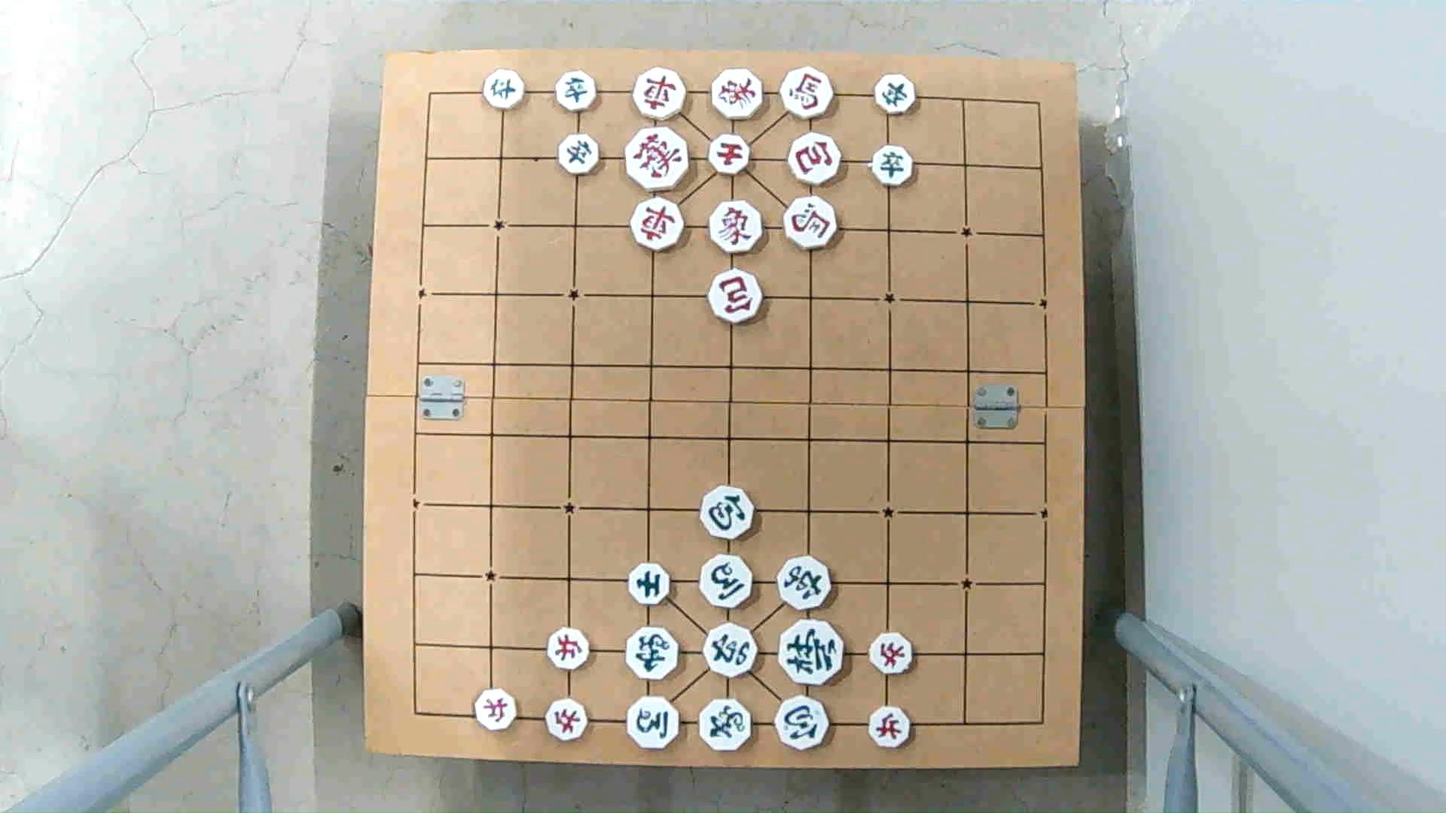cha_green: (775, 560, 831, 609), (702, 629, 758, 678)
cha_red: (633, 68, 688, 118), (630, 202, 685, 250)
jol_green: (482, 69, 528, 110), (871, 147, 917, 184), (874, 76, 917, 114), (557, 137, 599, 175), (554, 74, 596, 111)
jol_red: (545, 696, 587, 740), (868, 635, 915, 674), (868, 708, 913, 747), (475, 692, 520, 730), (548, 629, 593, 667)
ma_green: (626, 698, 682, 749), (700, 557, 756, 608)
ma_red: (781, 65, 834, 120), (786, 199, 843, 249)
po_green: (776, 699, 832, 748), (702, 491, 758, 540)
po_red: (706, 276, 763, 324), (790, 135, 844, 182)
sa_green: (627, 562, 673, 602)
sa_red: (707, 136, 752, 172)
sang_green: (624, 626, 679, 681), (700, 698, 755, 752)
sang_red: (710, 202, 765, 256), (709, 71, 764, 119)
wang_green: (778, 620, 844, 685)
wang_red: (621, 126, 690, 190)
